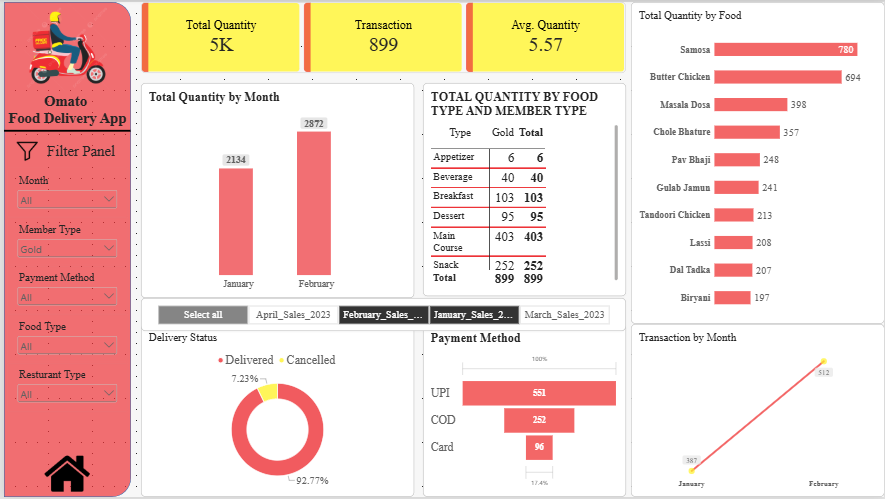

The page's visual inventory and layout, read from the dashboard file:
{"tool":"powerbi","page":{"name":"OMATO_Dashboard","canvas":[1920,1080],"ordinal":0},"visuals":[{"type":"shape","box":[0,0,277.1,1080],"z":0},{"type":"image","box":[32.4,0,211.7,198.7],"z":1000},{"type":"textbox","box":[0,198.7,276.5,103.7],"z":2000},{"type":"shape","box":[0,231.1,276.5,99.4],"z":3000},{"type":"cardVisual","fields":{"Data":["Sales Data.Total Quantity","Sales Data.Transaction","Sales Data.Avg. Quantity"]},"box":[298.9,0,1058.2,154.9],"z":4000},{"type":"columnChart","fields":{"Category":["Sales Data.orderDate.Variation.Date Hierarchy.Month"],"Y":["Sales Data.Total Quantity"]},"box":[298.1,177.1,595.6,469.1],"z":5000},{"type":"pivotTable","title":"TOTAL QUANTITY BY FOOD TYPE AND MEMBER TYPE","fields":{"Columns":["Customer Details.member_Type"],"Rows":["Food_Details.Type"],"Values":["Sales Data.Transaction"]},"box":[914.2,176.7,442.9,464.7],"z":6000},{"type":"donutChart","title":"Delivery Status","fields":{"Category":["Sales Data.deliver_status"],"Y":["CountNonNull(Sales Data.deliver_status)"]},"box":[298.9,702.5,595.6,377.5],"z":7000},{"type":"funnel","title":"Payment Method","fields":{"Category":["Sales Data.payment_method"],"Y":["Sales Data.Transaction"]},"box":[914,703,443,377],"z":8000},{"type":"clusteredBarChart","fields":{"Category":["Food_Details.Food"],"Y":["Sales Data.Total Quantity"]},"box":[1367.3,0,553,702],"z":9000},{"type":"lineChart","fields":{"Category":["Sales Data.orderDate.Variation.Date Hierarchy.Month"],"Y":["Sales Data.Transaction"]},"box":[1367,703,553,377],"z":10000},{"type":"slicer","fields":{"Values":["Sales Data.orderDate.Variation.Date Hierarchy.Month"]},"box":[8.6,362.9,259.2,105.8],"z":11000},{"type":"slicer","fields":{"Values":["Customer Details.member_Type"]},"box":[8.6,468.7,259.2,105.8],"z":12000},{"type":"slicer","fields":{"Values":["Sales Data.payment_method"]},"box":[8.6,574.6,259.2,105.8],"z":13000},{"type":"slicer","fields":{"Values":["Food_Details.Type"]},"box":[8.6,680.4,259.2,105.8],"z":14000},{"type":"slicer","fields":{"Values":["Resturant_Details.Resturant_type"]},"box":[8.6,786.2,259.2,105.8],"z":15000},{"type":"image","box":[8.6,302.4,84.2,45.4],"z":16000},{"type":"textbox","box":[92.9,306.7,166.3,56.2],"z":17000},{"type":"image","box":[64.8,980.6,144.7,99.4],"z":18000},{"type":"slicer","fields":{"Values":["Sales Data.Month_And_Year"]},"box":[298.9,645.8,1058.2,72],"z":19000}]}

Visuals, with their boxes in screenshot pixels (x1, y1, x2, y2), scaled from the page's 1920x1080 canvas onto the 885x499 screenshot:
shape: (left=0, top=0, right=128, bottom=498)
image: (left=15, top=0, right=113, bottom=92)
textbox: (left=0, top=92, right=127, bottom=140)
shape: (left=0, top=107, right=127, bottom=153)
cardVisual - Sales Data.Total Quantity x Sales Data.Transaction: (left=138, top=0, right=626, bottom=72)
columnChart - Sales Data.orderDate.Variation.Date Hierarchy.Month x Sales Data.Total Quantity: (left=137, top=82, right=412, bottom=299)
"TOTAL QUANTITY BY FOOD TYPE AND MEMBER TYPE" pivotTable: (left=421, top=82, right=626, bottom=296)
"Delivery Status" donutChart: (left=138, top=325, right=412, bottom=498)
"Payment Method" funnel: (left=421, top=325, right=625, bottom=498)
clusteredBarChart - Food_Details.Food x Sales Data.Total Quantity: (left=630, top=0, right=884, bottom=324)
lineChart - Sales Data.orderDate.Variation.Date Hierarchy.Month x Sales Data.Transaction: (left=630, top=325, right=884, bottom=498)
slicer - Sales Data.orderDate.Variation.Date Hierarchy.Month: (left=4, top=168, right=123, bottom=217)
slicer - Customer Details.member_Type: (left=4, top=217, right=123, bottom=265)
slicer - Sales Data.payment_method: (left=4, top=265, right=123, bottom=314)
slicer - Food_Details.Type: (left=4, top=314, right=123, bottom=363)
slicer - Resturant_Details.Resturant_type: (left=4, top=363, right=123, bottom=412)
image: (left=4, top=140, right=43, bottom=161)
textbox: (left=43, top=142, right=119, bottom=168)
image: (left=30, top=453, right=97, bottom=498)
slicer - Sales Data.Month_And_Year: (left=138, top=298, right=626, bottom=332)
